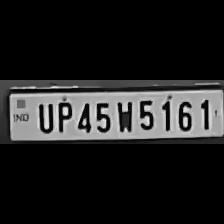1: (194, 96, 214, 130), (155, 97, 172, 131)
4: (72, 98, 92, 132)
5: (134, 96, 156, 132), (92, 99, 112, 134)
6: (174, 96, 194, 132)
P: (53, 98, 73, 132)
U: (34, 100, 54, 132)
W: (114, 96, 134, 132)
